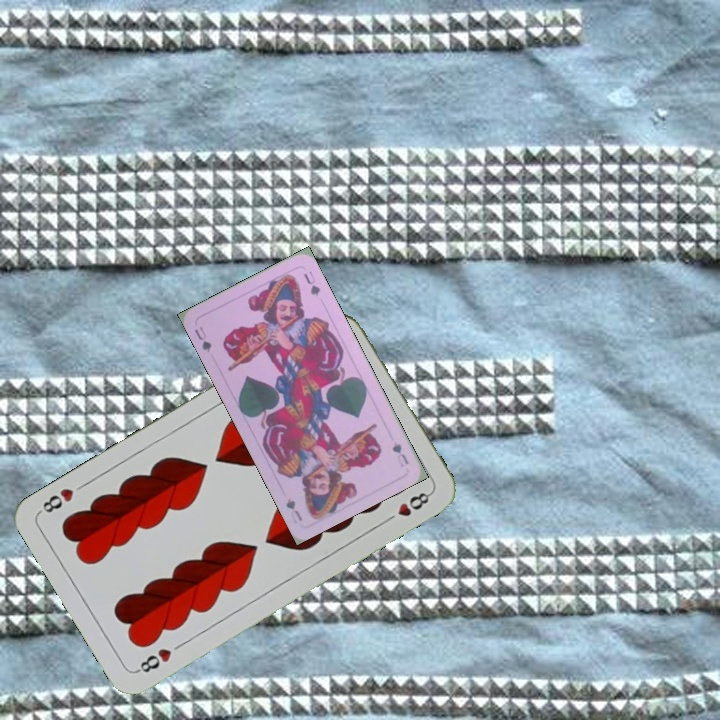GU: (190, 322, 214, 355), (388, 438, 411, 469)
H8: (132, 644, 175, 676)
